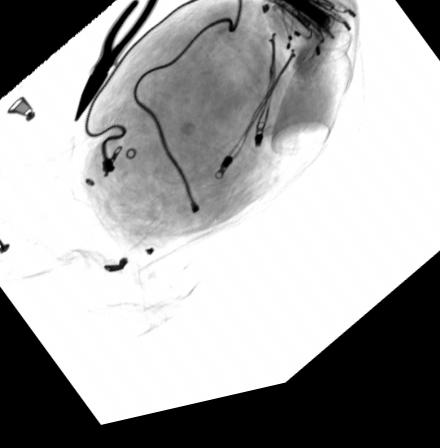Pliers: (72, 0, 161, 125)
